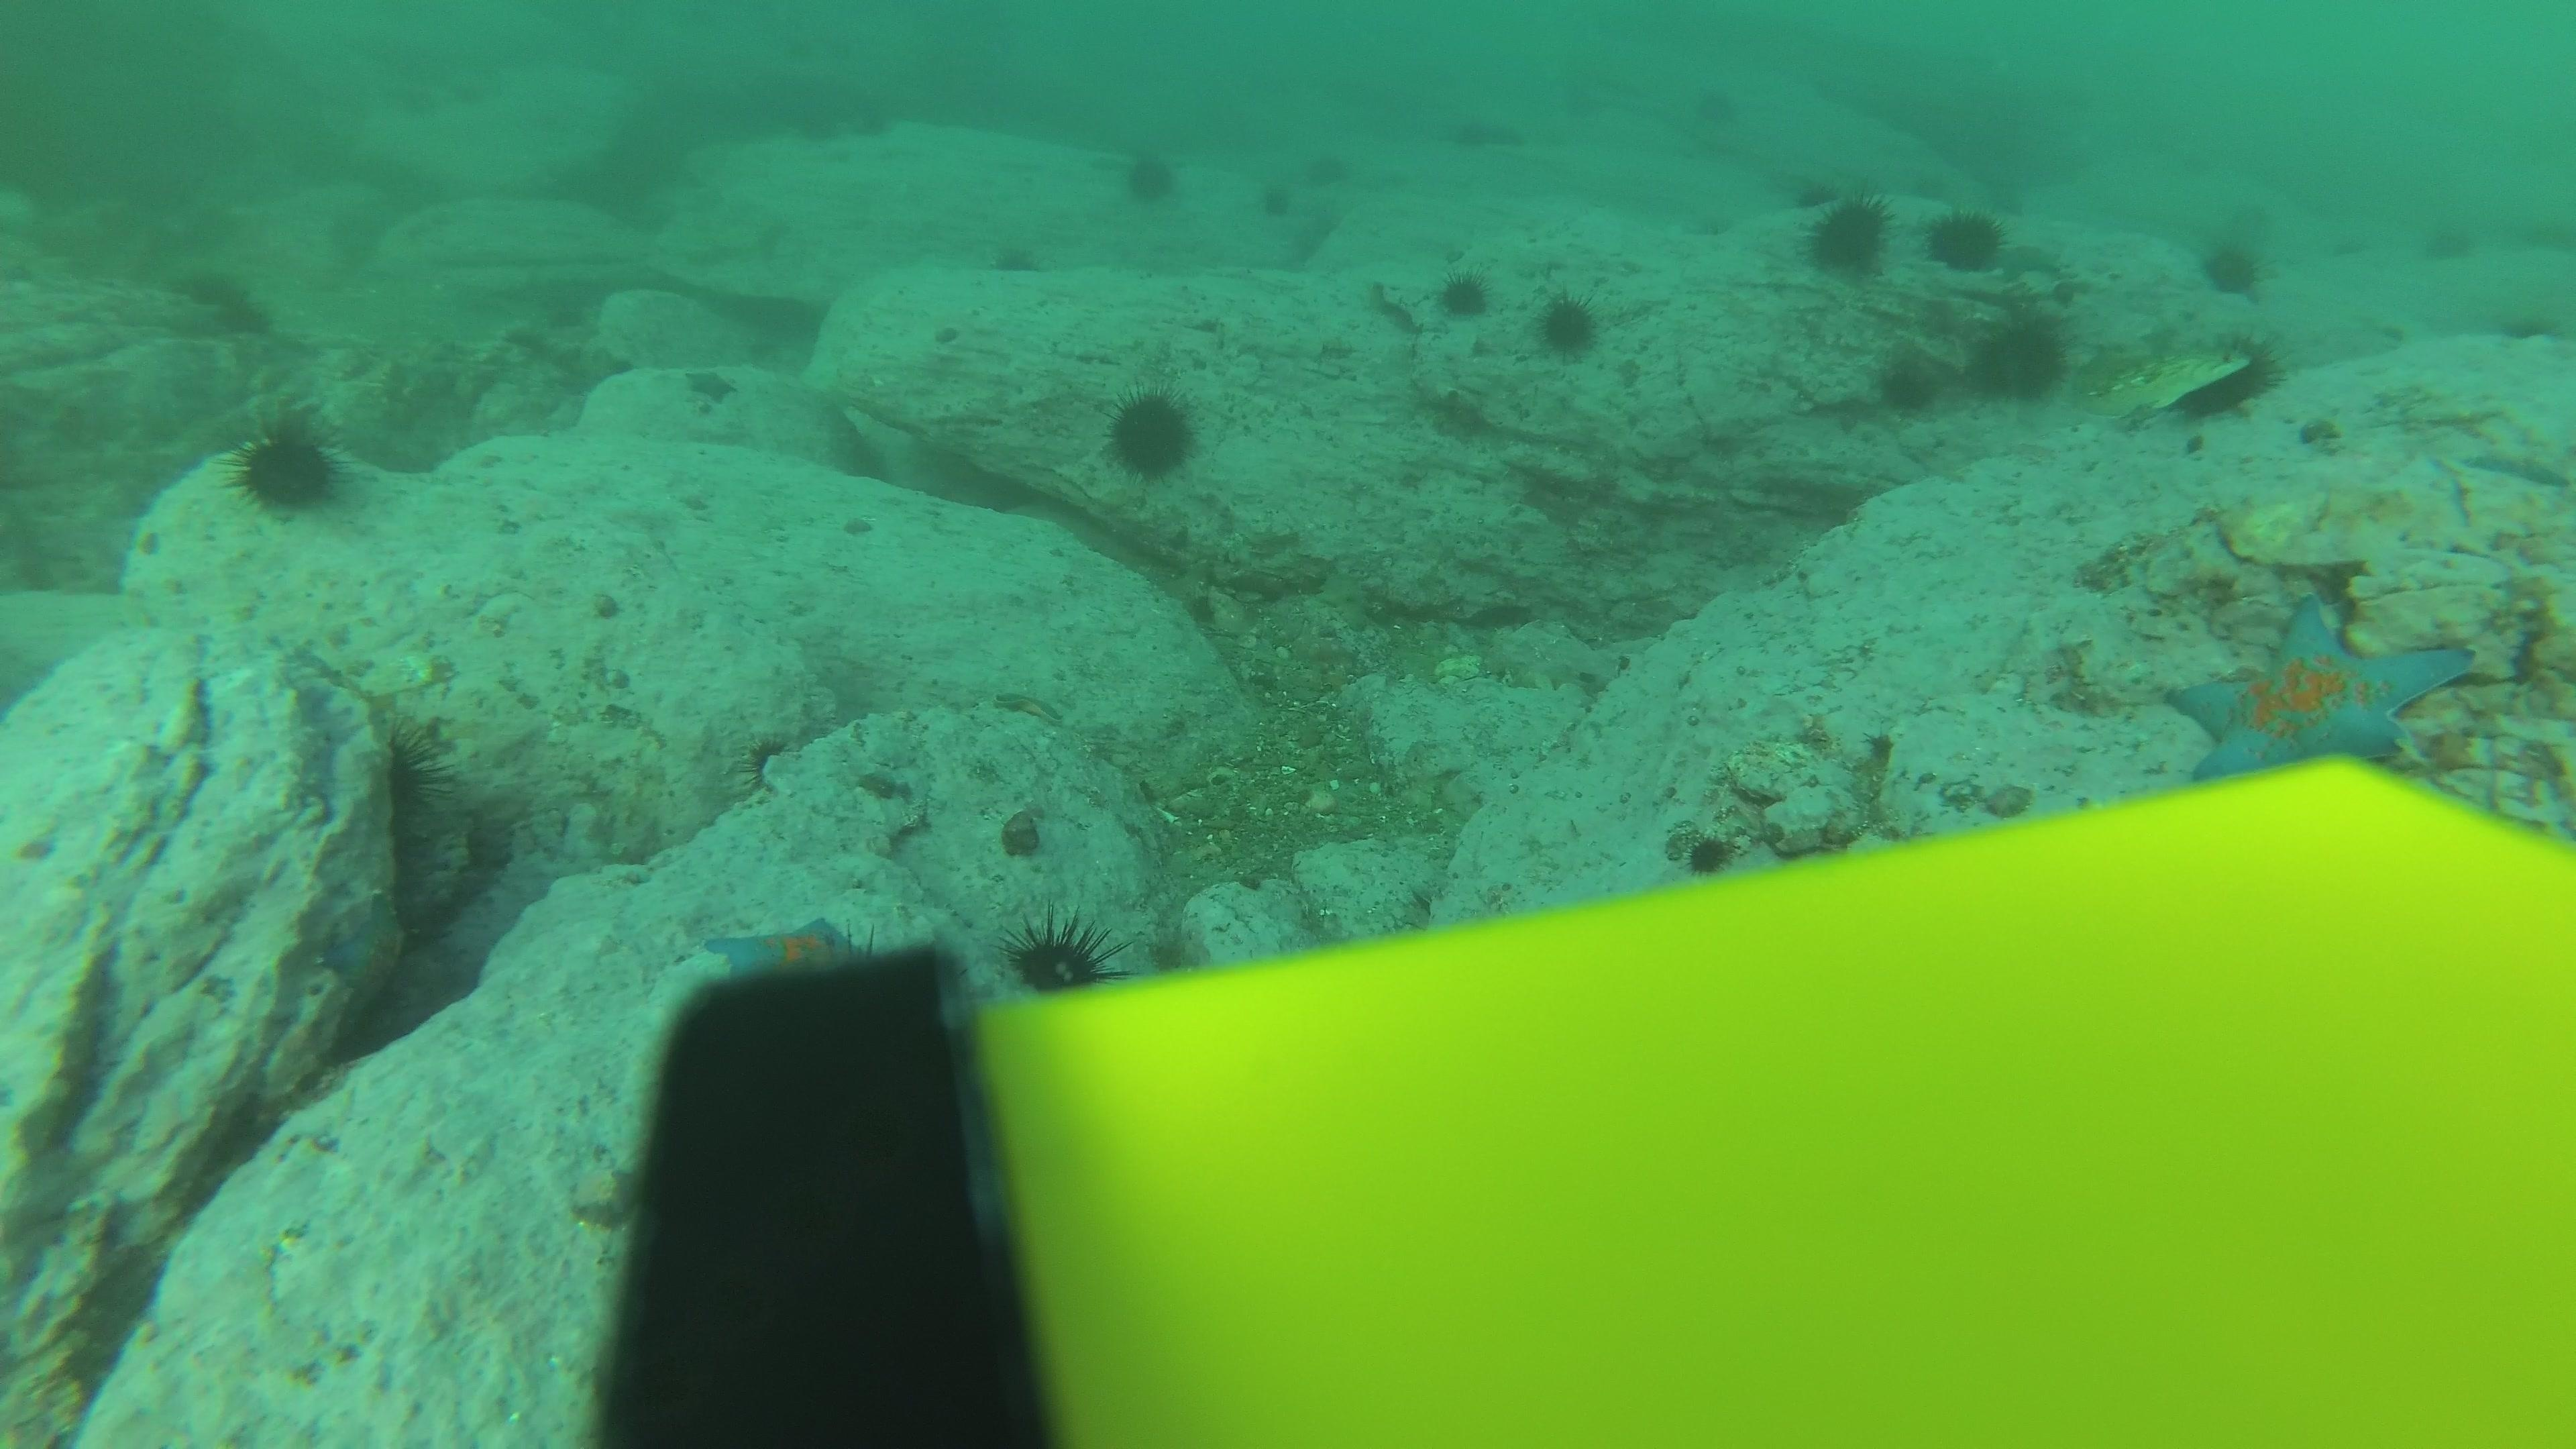echinus: (226, 405, 347, 515), (1100, 384, 1201, 483), (1967, 311, 2070, 405), (1005, 913, 1116, 998), (1801, 189, 1891, 278), (1925, 203, 2006, 274), (1534, 288, 1603, 359), (2196, 232, 2268, 299), (2420, 200, 2493, 267), (2503, 198, 2576, 265), (2491, 287, 2564, 354), (2219, 186, 2289, 253), (207, 292, 288, 347), (1874, 350, 1941, 416), (166, 249, 248, 303), (1118, 145, 1182, 209), (1437, 267, 1491, 322), (1684, 826, 1741, 879), (1468, 104, 1522, 156), (1566, 78, 1619, 129), (1690, 83, 1743, 134), (794, 106, 847, 157), (1251, 177, 1302, 228), (1302, 138, 1353, 189), (1442, 106, 1493, 157), (847, 96, 899, 147), (993, 239, 1047, 285), (1789, 177, 1842, 223), (780, 35, 826, 78), (821, 28, 863, 64)
starfish: (2160, 591, 2475, 775), (699, 911, 878, 993), (317, 888, 410, 1008), (1994, 237, 2066, 283), (679, 363, 738, 410)
